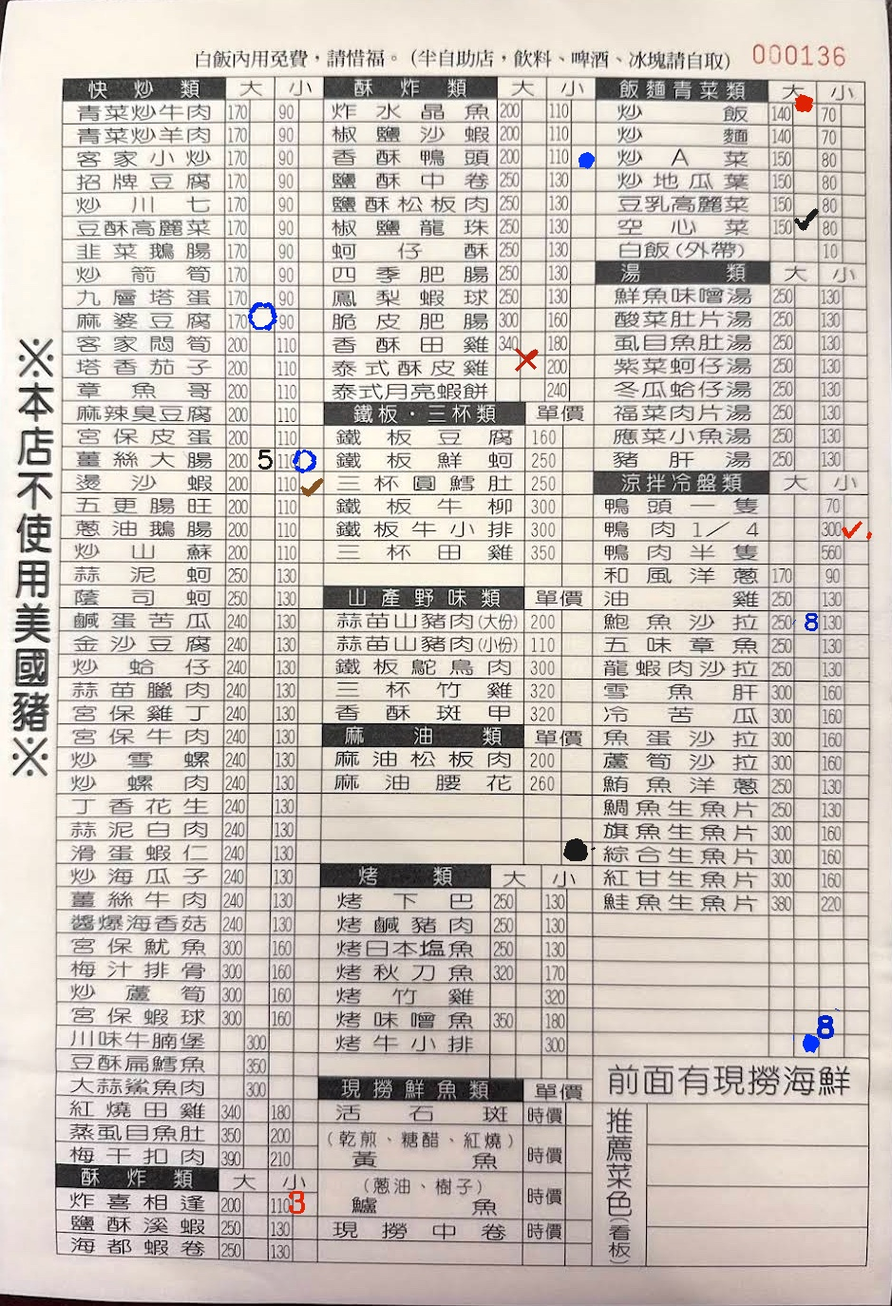marked_circle: (560, 842, 592, 865), (793, 1034, 819, 1057), (571, 144, 597, 167), (792, 103, 818, 125)
marked_hollow: (248, 308, 274, 331), (297, 450, 323, 472)
marked_number_3: (292, 1192, 317, 1215)
marked_number_5: (248, 449, 274, 471)
marked_number_8: (795, 610, 821, 633), (818, 1010, 844, 1033)
marked_tick: (794, 215, 820, 238), (297, 472, 323, 495), (843, 519, 868, 542)
marked_x: (520, 355, 545, 377)
